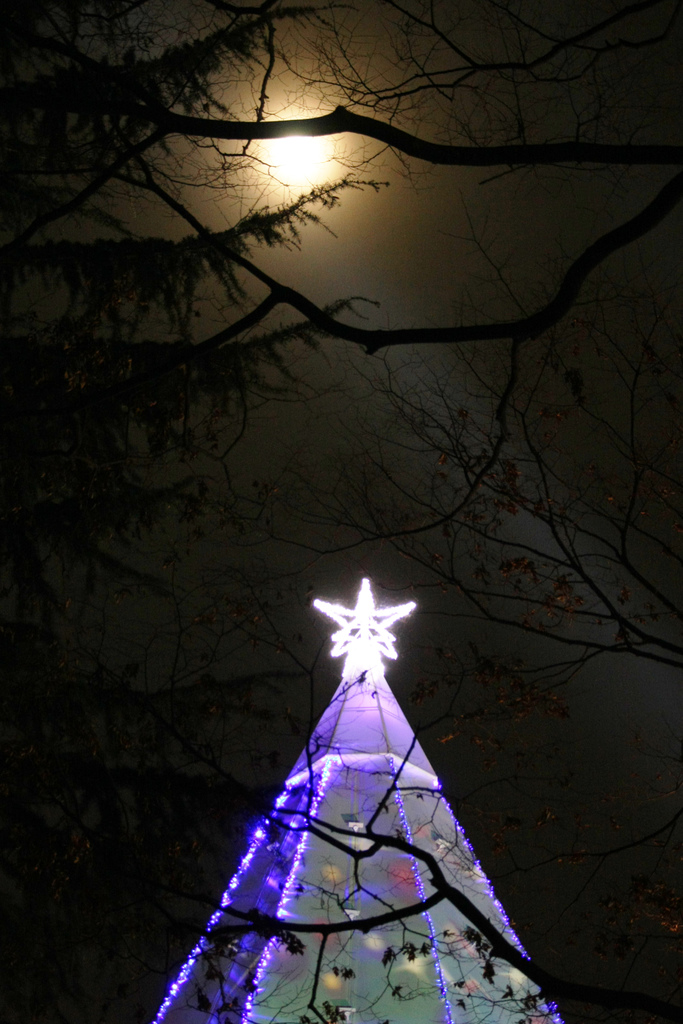Tree: (0, 0, 676, 1023)
